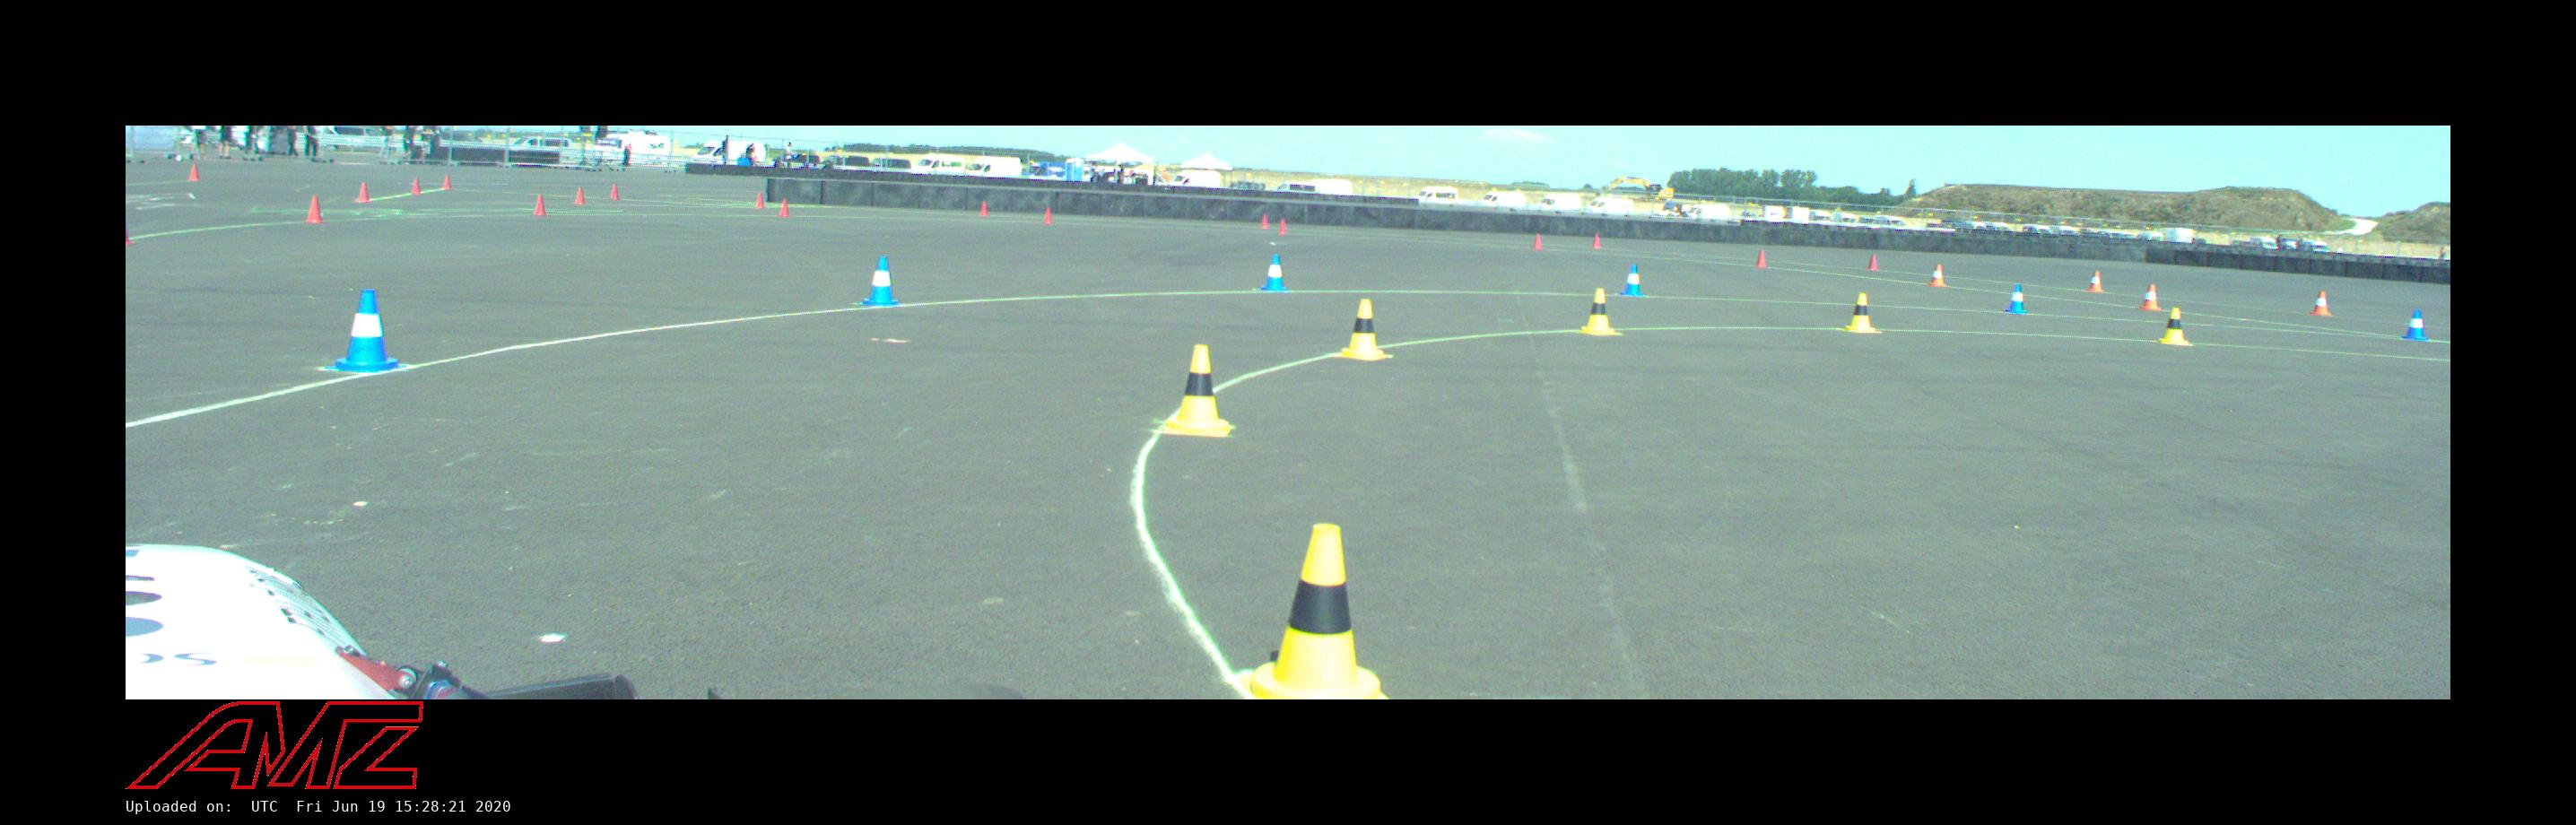blue_cone: (326, 291, 405, 372), (860, 256, 902, 305), (1261, 255, 1288, 291), (2403, 310, 2428, 341), (2005, 284, 2028, 313), (1622, 265, 1643, 296)
orange_cone: (2137, 285, 2160, 310), (2310, 292, 2329, 317), (1928, 265, 1946, 286), (2087, 271, 2103, 291)
unknown_cone: (304, 195, 323, 223), (355, 182, 370, 202), (533, 195, 547, 216), (1756, 251, 1768, 268), (1867, 255, 1879, 271), (188, 165, 200, 181), (574, 187, 585, 204), (1532, 233, 1543, 249), (754, 193, 765, 209), (779, 199, 788, 216), (411, 178, 421, 195), (1591, 233, 1602, 248), (1278, 218, 1288, 234), (979, 201, 989, 216), (1044, 208, 1053, 223), (610, 185, 619, 199), (1260, 214, 1269, 229), (442, 176, 451, 189)
yellow_cone: (1241, 524, 1390, 699), (1164, 345, 1233, 438), (1339, 300, 1390, 360), (1581, 289, 1621, 335), (1841, 294, 1875, 333), (2159, 308, 2189, 344)
